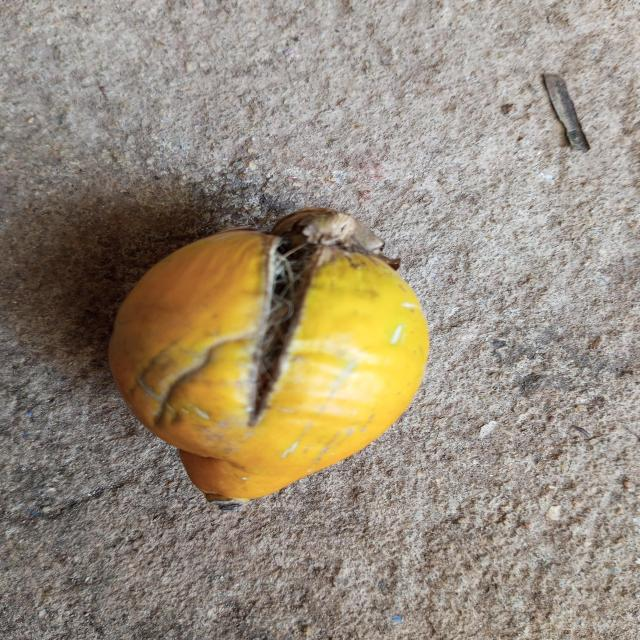damaged: (109, 208, 429, 509)
